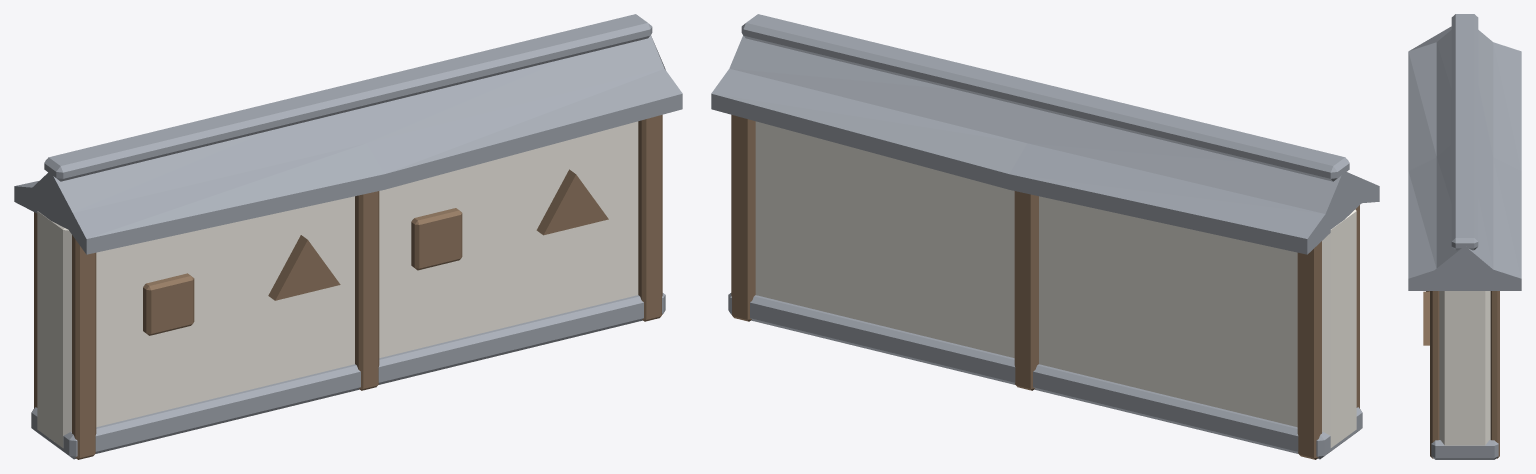
Rendered from feudal-japan-castle-town-wall-walk-loophole-f48e0895__26581.glb.
The picture shows the model from 3 angles, left to right: view 1: azimuth 30°, elevation 25°; view 2: azimuth 150°, elevation 25°; view 3: azimuth 270°, elevation 25°; orthographic projection. The views are drawn at different scales.
Parts seen in each view (by area): view 1: wall-walk-loophole; view 2: wall-walk-loophole; view 3: wall-walk-loophole.
Part boxes in pixels (x1,y1,x2,y2): wall-walk-loophole: (14,14,682,459); wall-walk-loophole: (711,14,1379,459); wall-walk-loophole: (1408,14,1521,459).
Bounding box in the file's own units: 4 × 1.82 × 0.8401.
